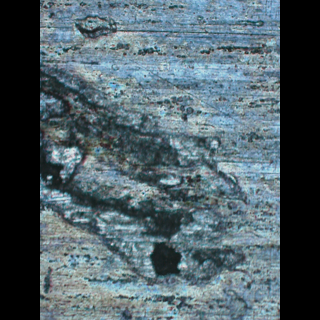d: (39, 67, 251, 288), (70, 14, 122, 41)
